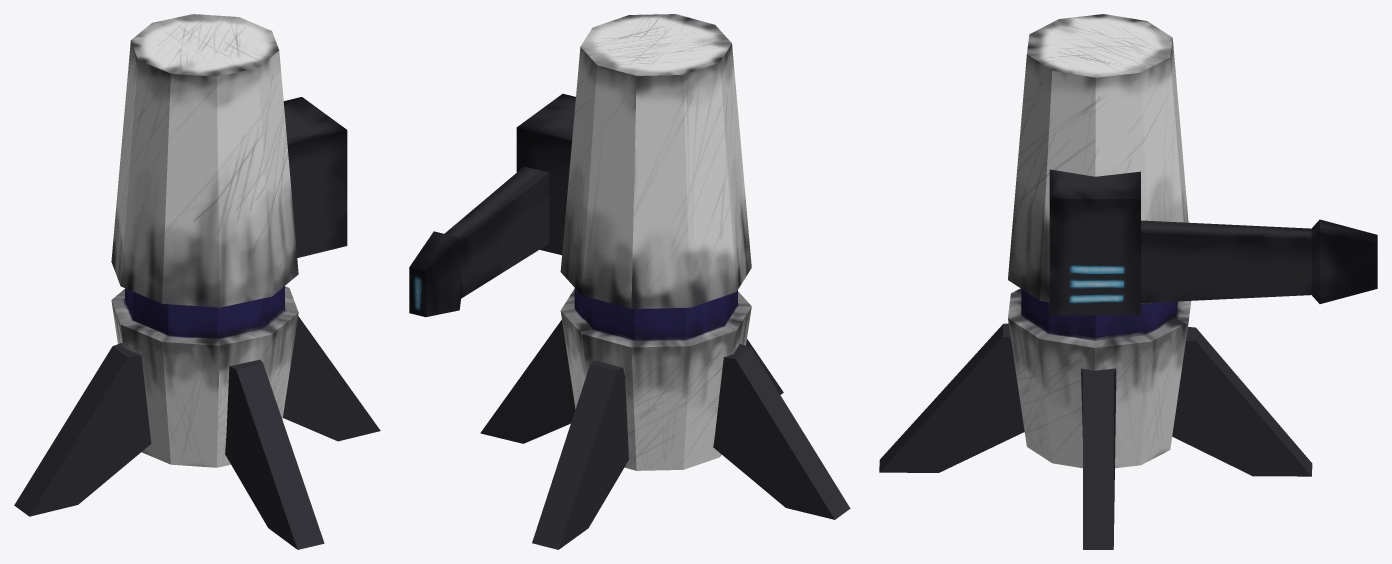
File: TowerNormal1.fbx
3 renders of one model, left to right at view 1: azimuth 30°, elevation 25°; view 2: azimuth 150°, elevation 25°; view 3: azimuth 270°, elevation 25°, orthographic.
Parts seen in each view (by area): view 1: polySurface462, polySurface484; view 2: polySurface462, polySurface484; view 3: polySurface462, polySurface484.
Part boxes in pixels (box(x1,y1,x2,y2)): polySurface462: box(111, 14, 347, 307); polySurface484: box(14, 286, 380, 549); polySurface462: box(409, 14, 751, 317); polySurface484: box(480, 288, 850, 549); polySurface462: box(1008, 14, 1377, 315); polySurface484: box(879, 288, 1312, 549).
Bounding box in the file's own units: 12.48 × 14.26 × 15.26.
